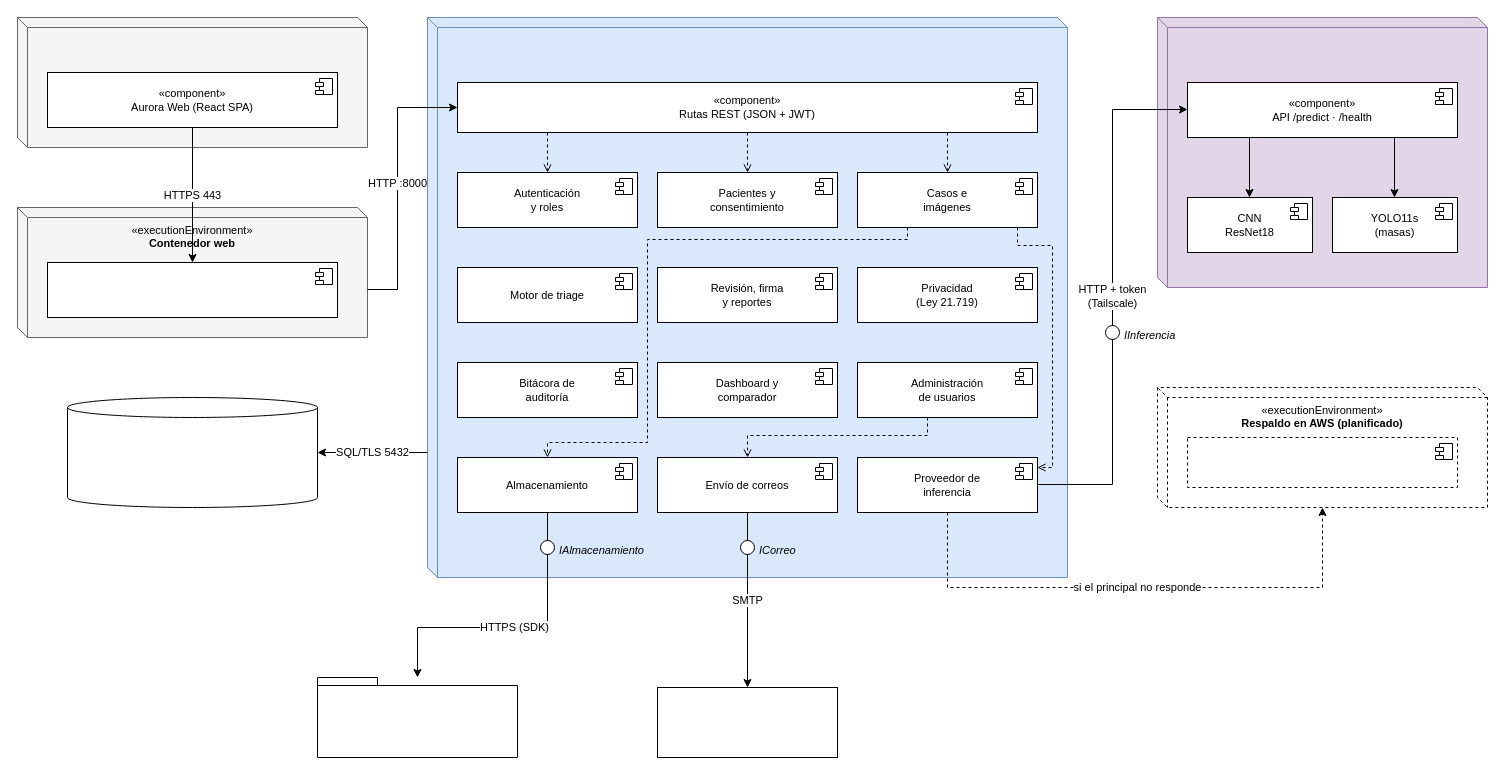
The diagram is 1505 pixels wide and 775 high, and some of its shapes have lost their labels. The box of each missing label's shape, as (x1, y1, x2, y2) in pixels:
Servicio de inferencia en CPU: (1186, 436, 1458, 488)
«component» Caddy (HTTPS, proxy /api): (46, 262, 338, 318)
«database» PostgreSQL 16 (Amazon RDS) 19 tablas: (66, 396, 318, 508)
«device» Navegador web: (16, 16, 368, 148)
«executionEnvironment» Contenedor backend: API FastAPI (monolito modular): (426, 16, 1068, 578)
«executionEnvironment» Servicio de inferencia (PC con GPU): (1156, 16, 1488, 288)
«external» Servidor SMTP: (656, 686, 838, 758)
«storage» Amazon S3 imágenes cifradas: (316, 676, 518, 758)
